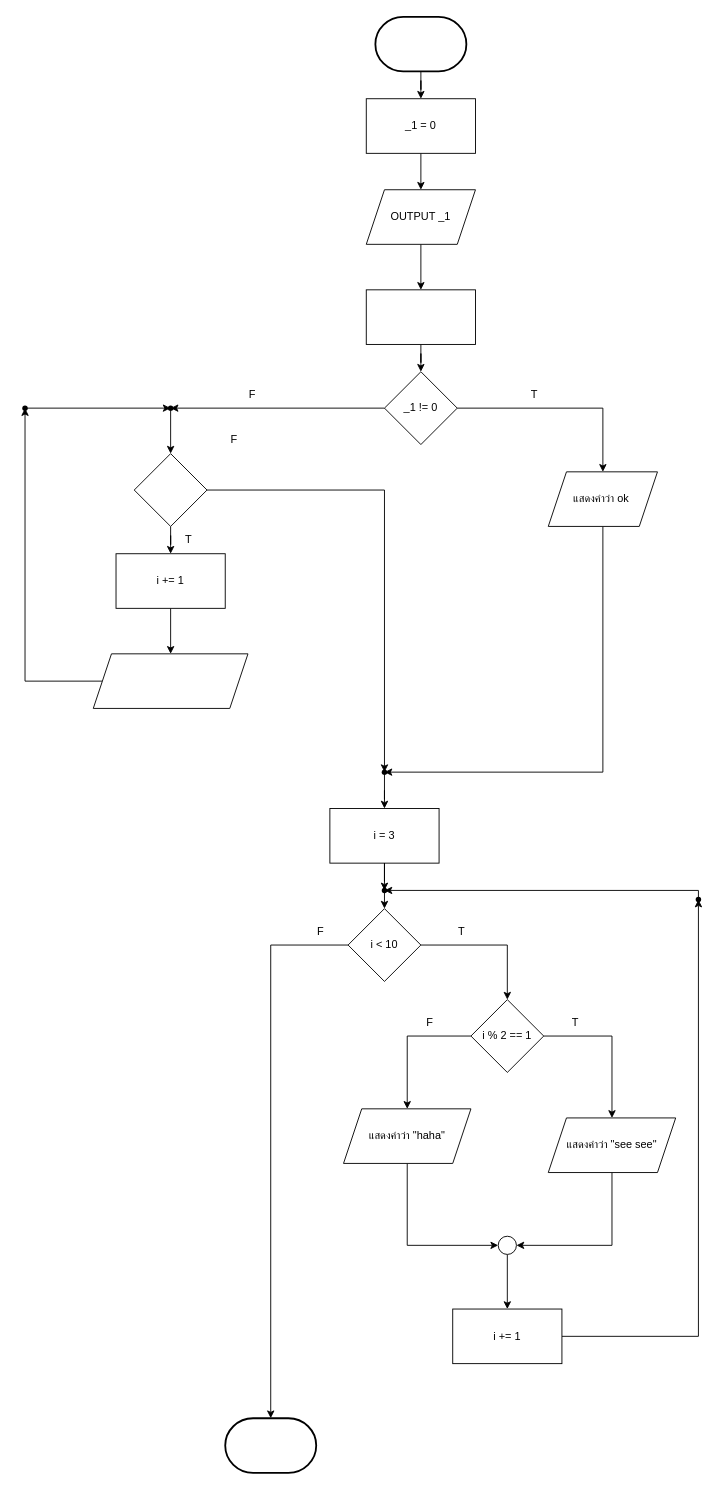
This 723x1489 diagram has some shape labels left out. Each missing label, with the centre of its shape:
"end" belongs at (x=270, y=1445).
"i <= 5" belongs at (x=170, y=489).
"i = 0" belongs at (x=420, y=316).
"Start" belongs at (x=420, y=43).
"แสดงคำว่า not-okey-" belongs at (x=170, y=680).
